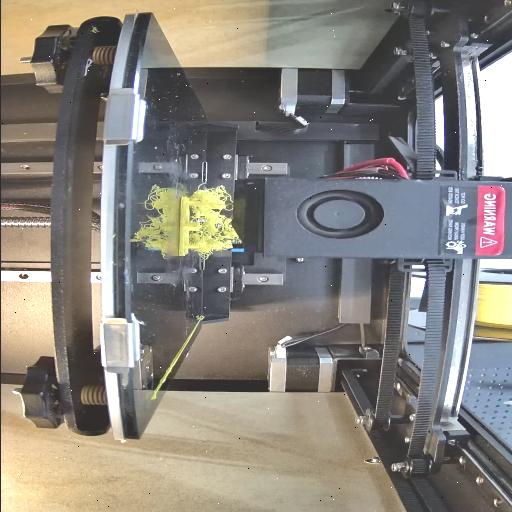spaghetti: (188, 186, 238, 258)
